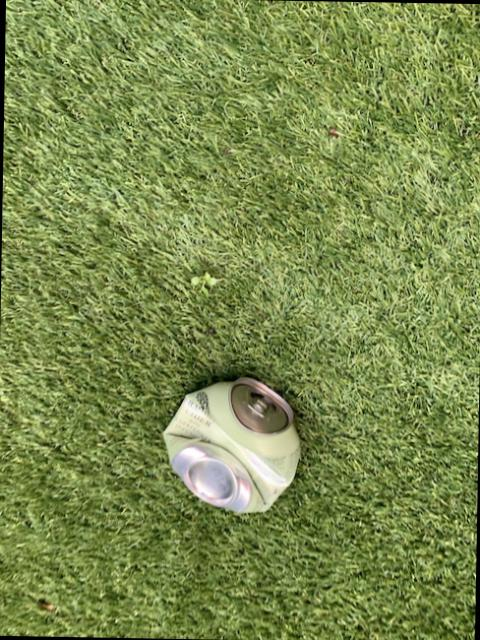metal: (165, 379, 300, 514)
